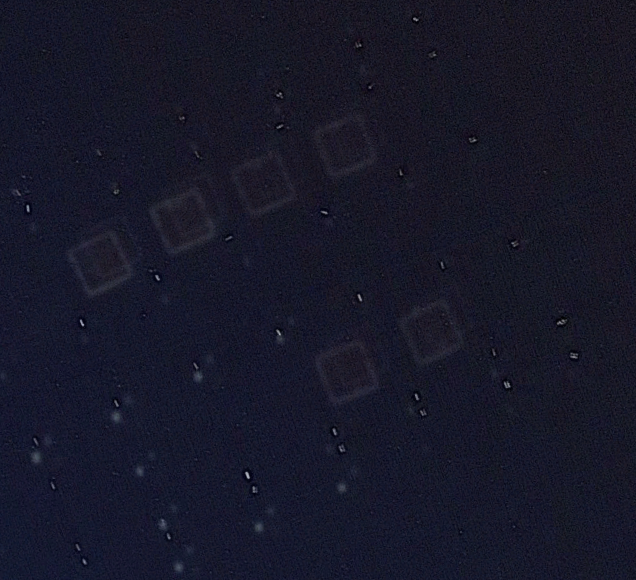square: (388, 284, 479, 372), (308, 329, 392, 410), (57, 225, 146, 300), (222, 141, 302, 223), (306, 104, 389, 183), (140, 180, 224, 258)
